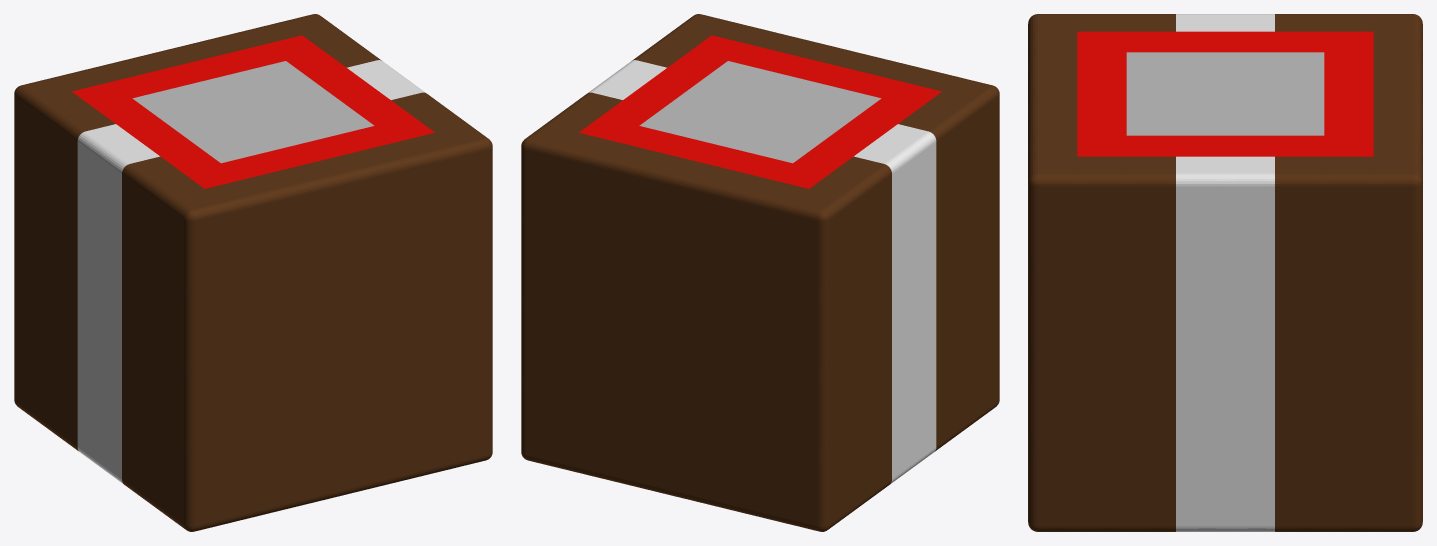
3 views of the same model, side by side, from view 1: azimuth 30°, elevation 25°; view 2: azimuth 150°, elevation 25°; view 3: azimuth 270°, elevation 25° (orthographic). The views are drawn at different scales.
Parts seen in each view (by area): view 1: 01 Cardboard; view 2: 01 Cardboard; view 3: 01 Cardboard.
Part boxes in pixels (bbox=[...]): 01 Cardboard: bbox=[14, 14, 492, 531]; 01 Cardboard: bbox=[521, 14, 999, 531]; 01 Cardboard: bbox=[1028, 14, 1422, 531].
Size of the model in its own units: 140 by 140 by 140.
